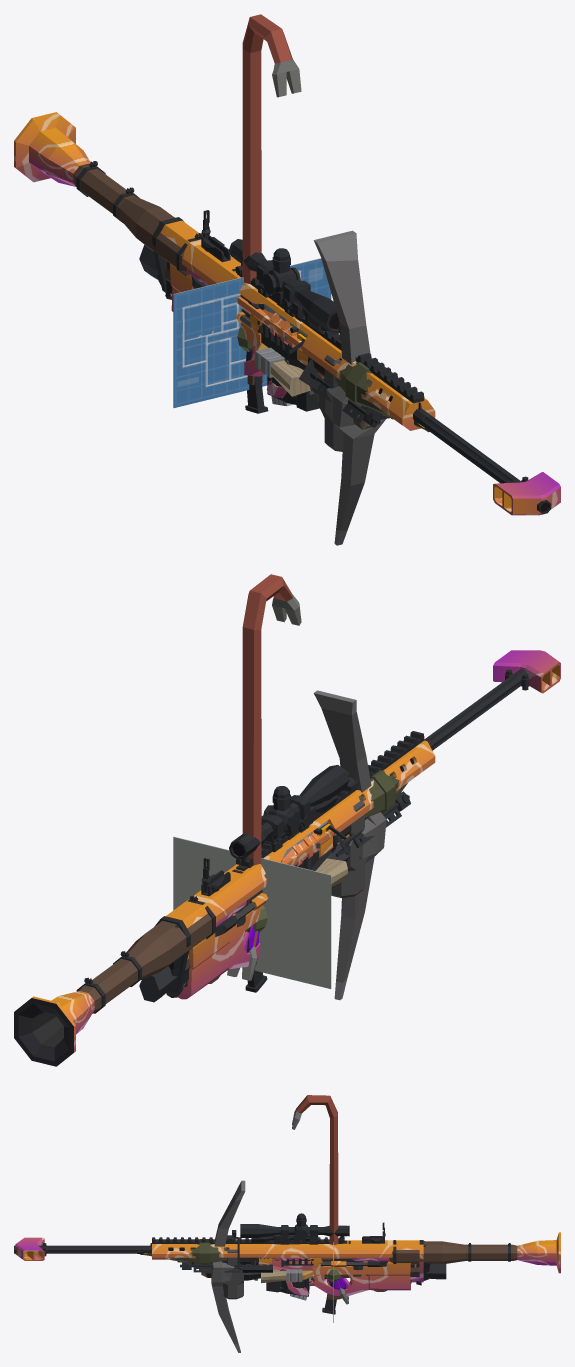
Rendered from tools.glb.
3 renders of one model, top to bottom at view 1: azimuth 30°, elevation 25°; view 2: azimuth 150°, elevation 25°; view 3: azimuth 270°, elevation 25°, orthographic. The views are drawn at different scales.
Parts seen in each view (by area): view 1: SM_Wep_Sniper_Heavy_01, SM_Wep_RPG_01, SM_Prop_Plans_01, SM_Wep_Pickaxe_01, SM_Wep_Crowbar_01, SM_Wep_Sniper_Heavy_Scope_01, SM_Wep_SubMGun_01, SM_Tool_Paint_Brush_02, SM_Tool_Hammer_Sledge, SM_Wep_RPG_Rocket_01, SM_Wep_Sniper_Heavy_Bipod_02; view 2: SM_Wep_Sniper_Heavy_01, SM_Prop_Plans_01, SM_Wep_RPG_01, SM_Wep_Crowbar_01, SM_Wep_Pickaxe_01, SM_Wep_Sniper_Heavy_Scope_01, SM_Wep_SubMGun_01, SM_Tool_Hammer_Sledge, SM_Wep_RPG_Rocket_01, SM_Wep_Sniper_Heavy_Bipod_02; view 3: SM_Wep_Sniper_Heavy_01, SM_Wep_RPG_01, SM_Wep_SubMGun_01, SM_Wep_Pickaxe_01, SM_Wep_Crowbar_01, SM_Wep_Sniper_Heavy_Scope_01, SM_Tool_Hammer_Sledge, SM_Wep_RPG_Rocket_01, SM_Tool_Paint_Brush_02, SM_Wep_Sniper_Heavy_Mag_01, SM_Wep_Sniper_Heavy_Bipod_01, SM_Wep_Sniper_Scope_01.
Part boxes in pixels (<box>): SM_Wep_Sniper_Heavy_01: <box>152,217,560,515</box>; SM_Wep_RPG_01: <box>14,112,297,385</box>; SM_Prop_Plans_01: <box>173,258,331,407</box>; SM_Wep_Pickaxe_01: <box>164,230,386,545</box>; SM_Wep_Crowbar_01: <box>242,14,301,284</box>; SM_Wep_Sniper_Heavy_Scope_01: <box>229,239,339,333</box>; SM_Wep_SubMGun_01: <box>170,263,286,397</box>; SM_Tool_Paint_Brush_02: <box>254,343,310,396</box>; SM_Tool_Hammer_Sledge: <box>139,245,343,451</box>; SM_Wep_RPG_Rocket_01: <box>297,330,429,432</box>; SM_Wep_Sniper_Heavy_Bipod_02: <box>299,359,381,427</box>; SM_Wep_Sniper_Heavy_01: <box>154,650,560,991</box>; SM_Prop_Plans_01: <box>173,836,331,988</box>; SM_Wep_RPG_01: <box>14,827,319,1066</box>; SM_Wep_Crowbar_01: <box>227,574,301,980</box>; SM_Wep_Pickaxe_01: <box>184,690,386,1000</box>; SM_Wep_Sniper_Heavy_Scope_01: <box>229,765,349,859</box>; SM_Wep_SubMGun_01: <box>177,905,263,999</box>; SM_Tool_Hammer_Sledge: <box>139,798,368,1002</box>; SM_Wep_RPG_Rocket_01: <box>317,770,407,834</box>; SM_Wep_Sniper_Heavy_Bipod_02: <box>335,791,410,856</box>; SM_Wep_Sniper_Heavy_01: <box>14,1235,430,1284</box>; SM_Wep_RPG_01: <box>275,1232,560,1299</box>; SM_Wep_SubMGun_01: <box>273,1258,410,1296</box>; SM_Wep_Pickaxe_01: <box>201,1180,419,1352</box>; SM_Wep_Crowbar_01: <box>292,1095,348,1304</box>; SM_Wep_Sniper_Heavy_Scope_01: <box>240,1213,349,1244</box>; SM_Tool_Hammer_Sledge: <box>222,1248,446,1299</box>; SM_Wep_RPG_Rocket_01: <box>140,1239,273,1264</box>; SM_Tool_Paint_Brush_02: <box>261,1269,351,1283</box>; SM_Wep_Sniper_Heavy_Mag_01: <box>266,1278,308,1296</box>; SM_Wep_Sniper_Heavy_Bipod_01: <box>180,1259,255,1272</box>; SM_Wep_Sniper_Scope_01: <box>251,1233,317,1244</box>.
Size of the model in its own units: 0.4356 by 1.24 by 2.4.
Materials: 4 (3 with a texture image).
